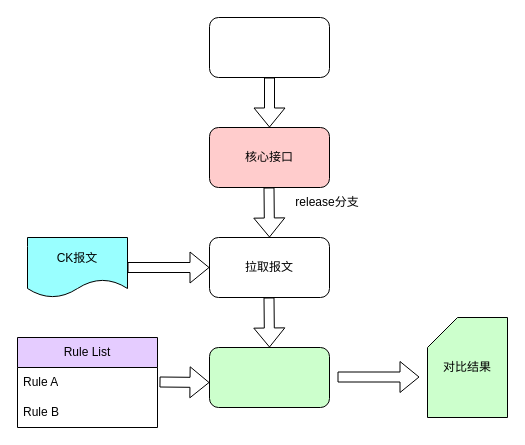
The diagram is 525 pixels wide and 445 high, and some of its shapes have lost their labels. The shapes that lost their labels are listed below. From the top down, each one's centre as x and y in pixels, then its label:
point 269,47: captain
point 269,377: whale
